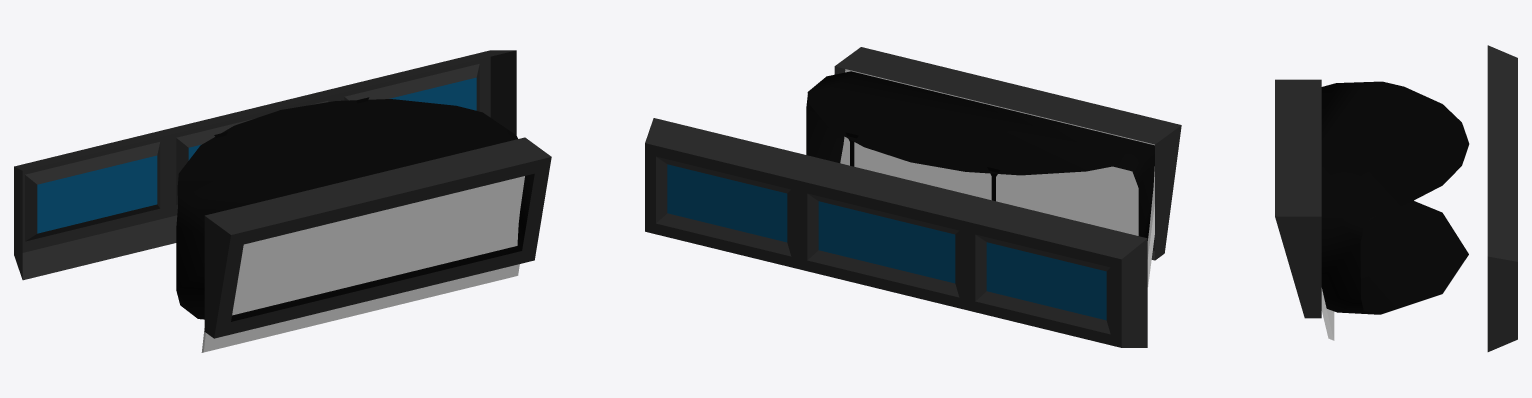
File: TankDriverVisor3x1x1.fbx
The picture shows the model from 3 angles, left to right: view 1: azimuth 30°, elevation 25°; view 2: azimuth 150°, elevation 25°; view 3: azimuth 270°, elevation 25°; orthographic projection. The views are drawn at different scales.
Visible parts, largest first — view 1: Cube.002, Cube.001; view 2: Cube.002, Cube.001; view 3: Cube.002, Cube.001.
Part boxes in pixels (x1=…): Cube.002: x1=14, y1=50, x2=551, y2=338; Cube.001: x1=201, y1=176, x2=524, y2=352; Cube.002: x1=645, y1=47, x2=1181, y2=347; Cube.001: x1=840, y1=69, x2=1154, y2=286; Cube.002: x1=1275, y1=45, x2=1517, y2=351; Cube.001: x1=1321, y1=288, x2=1334, y2=340.
Size of the model in its own units: 3 by 0.9995 by 1.43.
